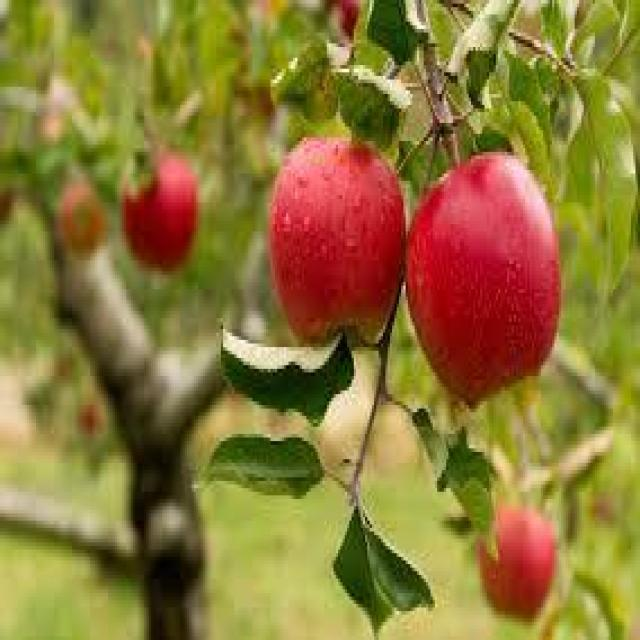fruit: (408, 152, 560, 404), (266, 123, 404, 367), (119, 145, 200, 276), (477, 498, 558, 624)
